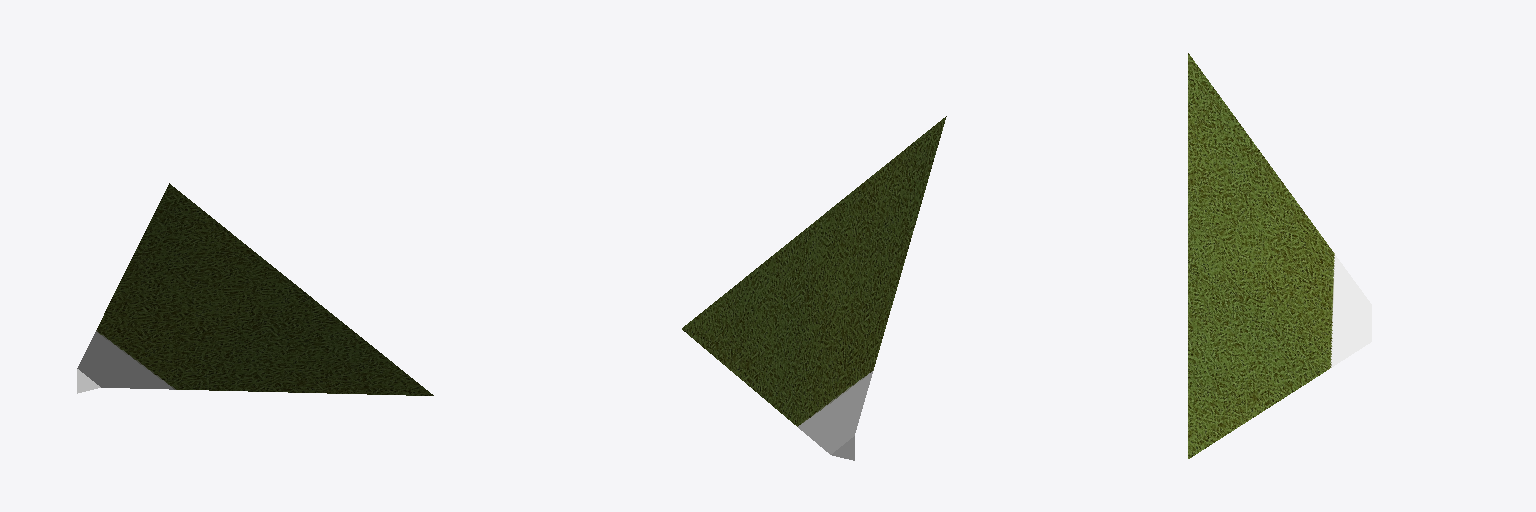
The picture shows the model from 3 angles: view 1: azimuth 30°, elevation 25°; view 2: azimuth 150°, elevation 25°; view 3: azimuth 270°, elevation 25°; orthographic projection.
Parts seen in each view (by area): view 1: Plane; view 2: Plane; view 3: Plane.
Boxes of the visible parts, <box> form: Plane: <box>77,183,433,395</box>; Plane: <box>682,116,946,460</box>; Plane: <box>1188,53,1371,458</box>.
Size of the model in its own units: 1 by 1 by 0.6.
Materials: 1 (1 with a texture image).